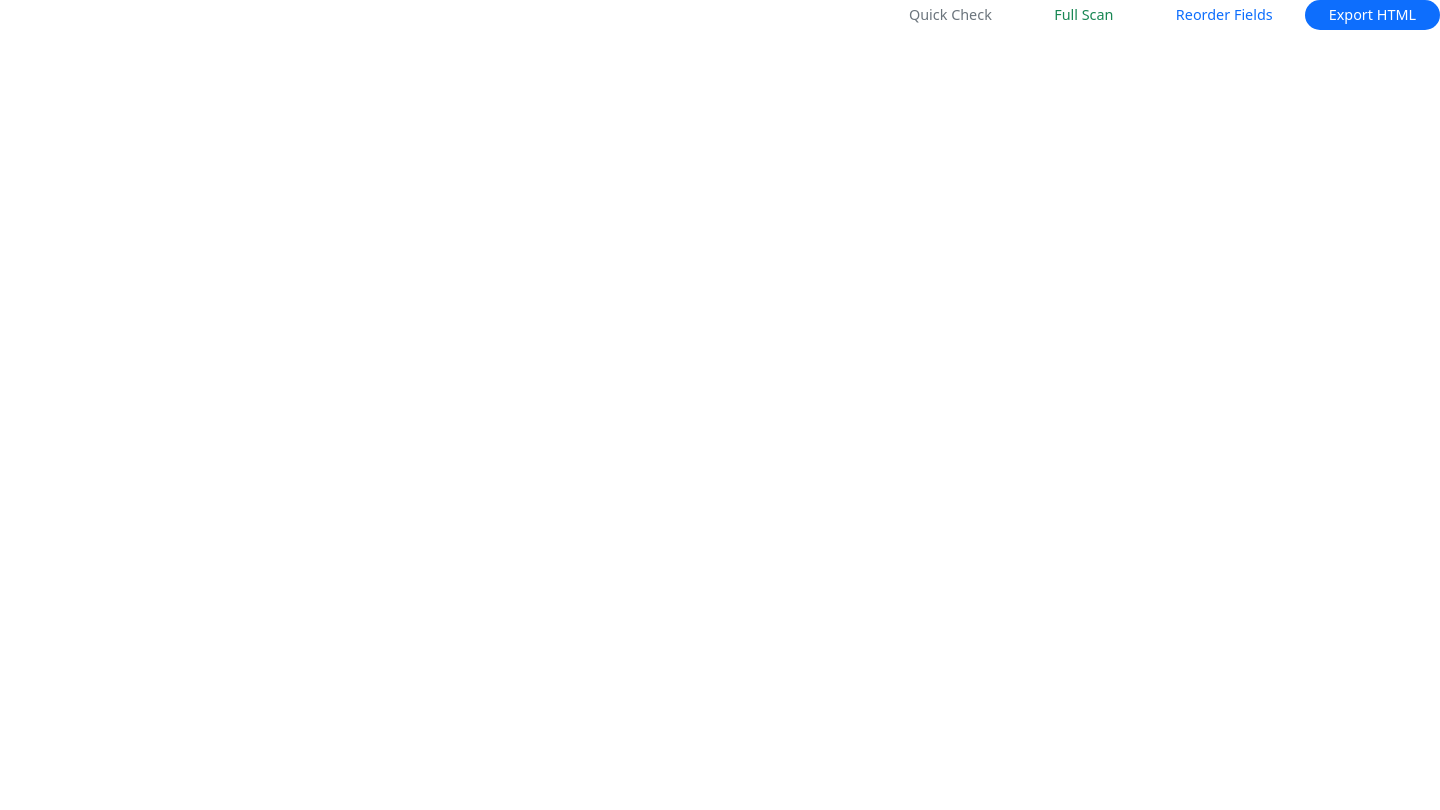
Test: ExportBar › opens accessibility check modal
Click the button "Quick Check" at x=950, y=15, box [885, 0, 1016, 30]
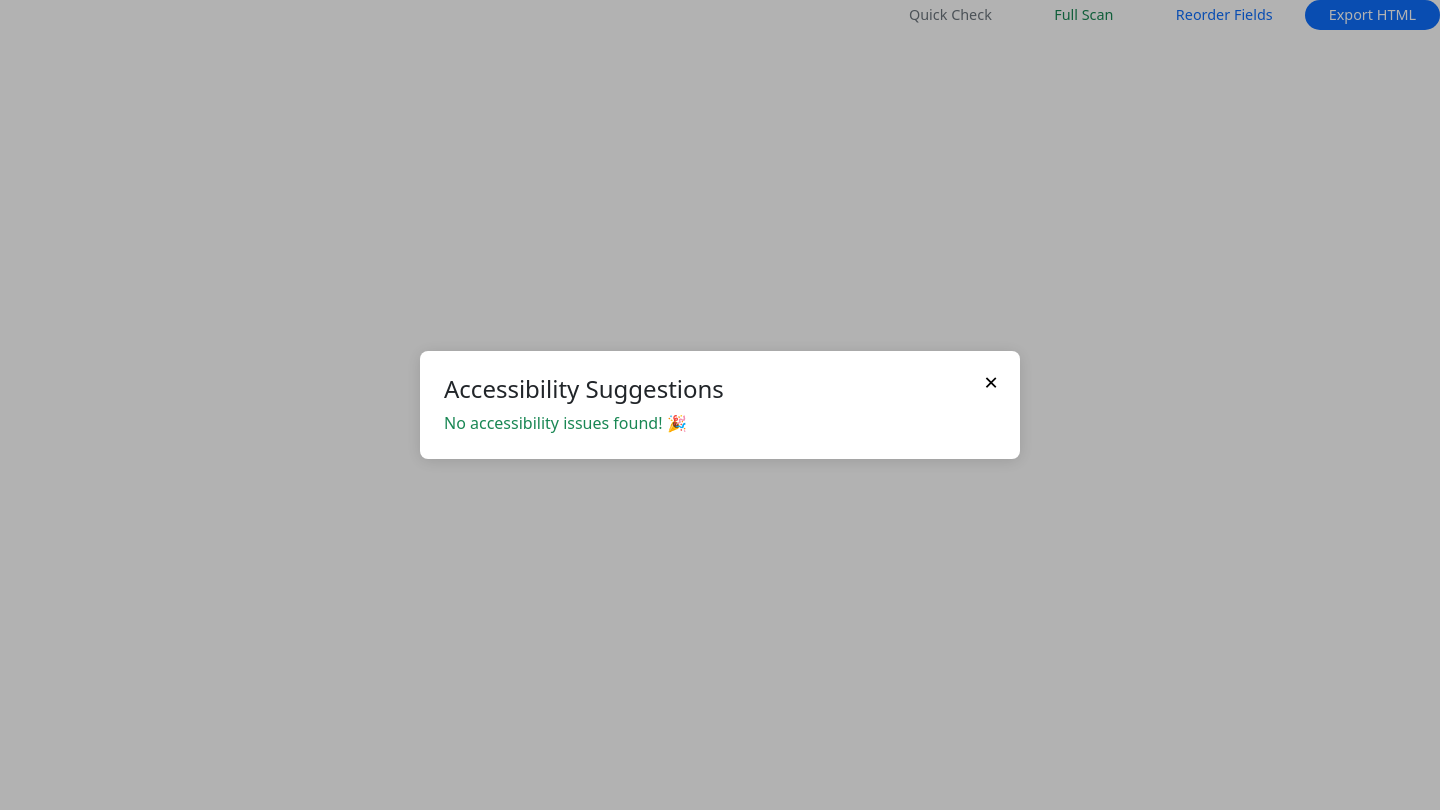
Expected: the heading "Accessibility Suggestions" is shown, [444, 372, 724, 405]
